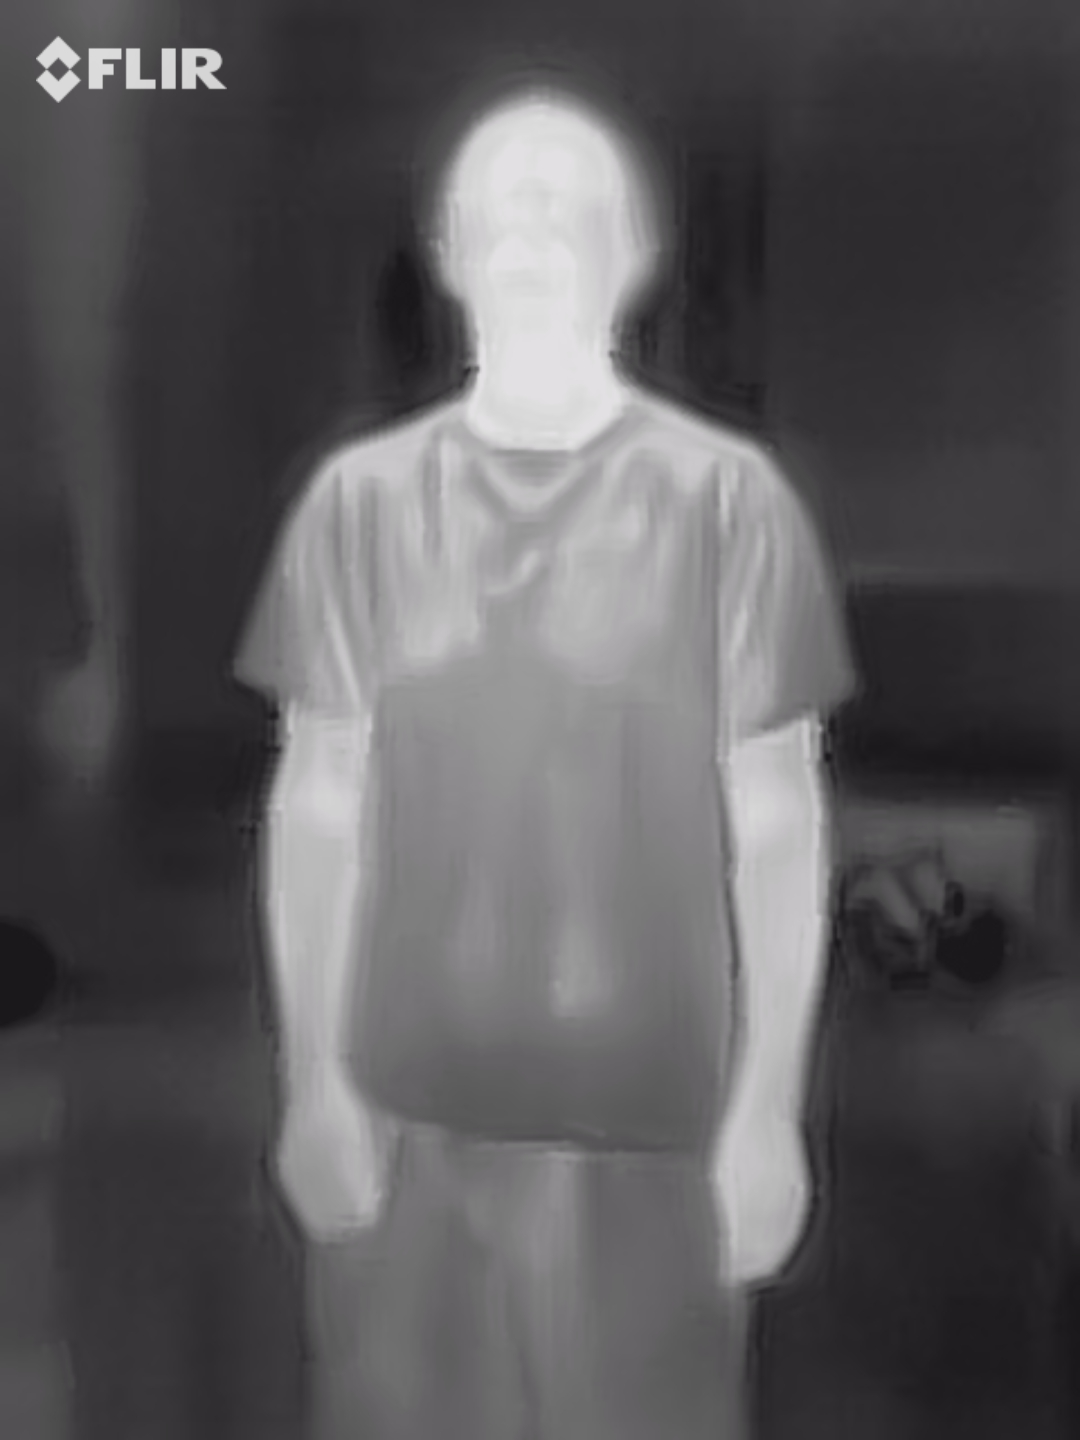head: (423, 84, 667, 378)
